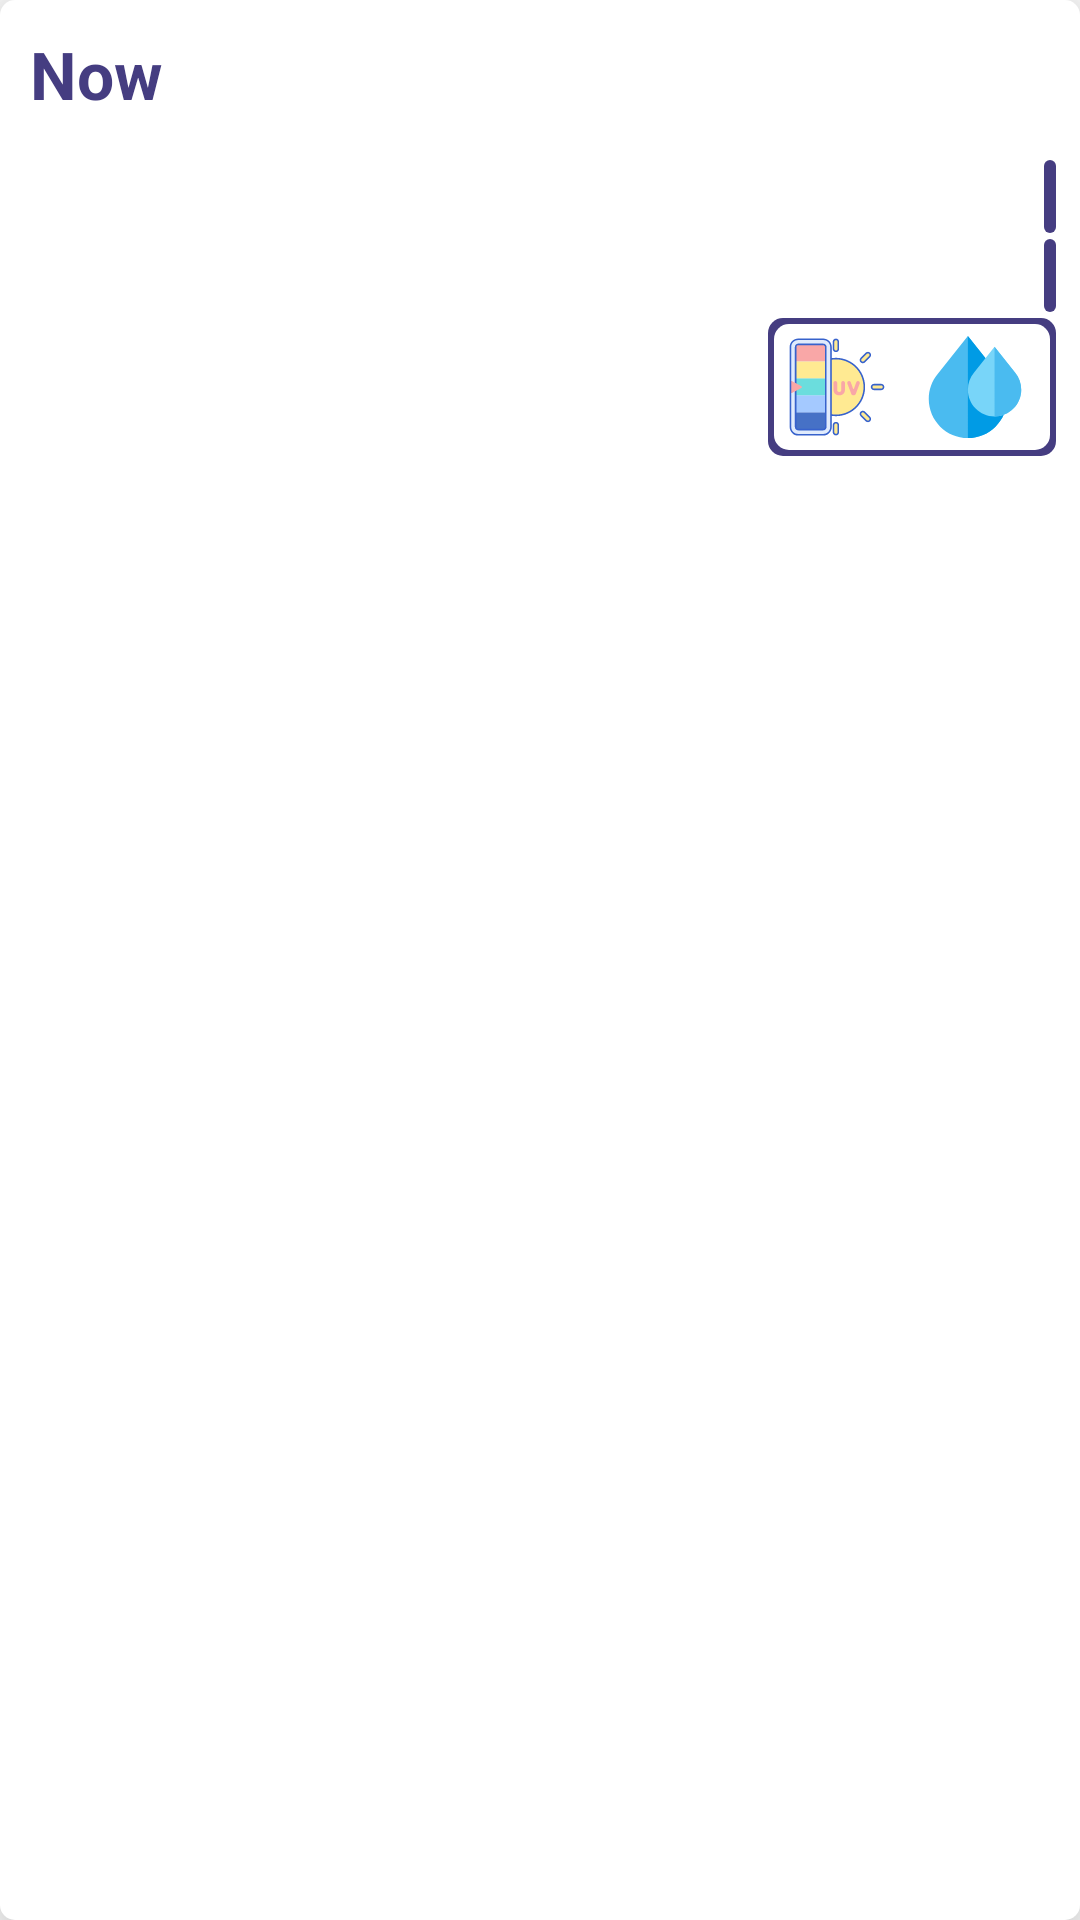

Icon click points for this 1080*1920 phone screenshot, format (x=x, y=y):
Chance of rain: (x=975, y=387)
Ultraviolet index: (x=837, y=387)
